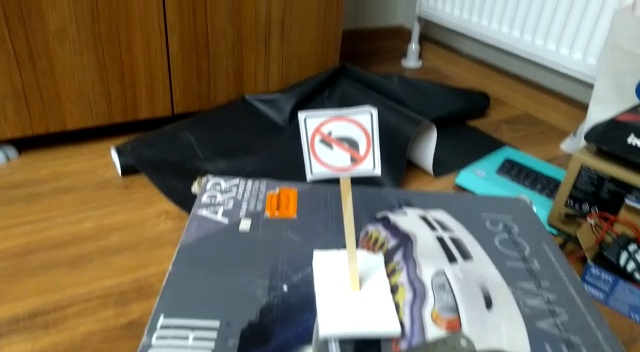sola_donulmez: (309, 110, 372, 177)
